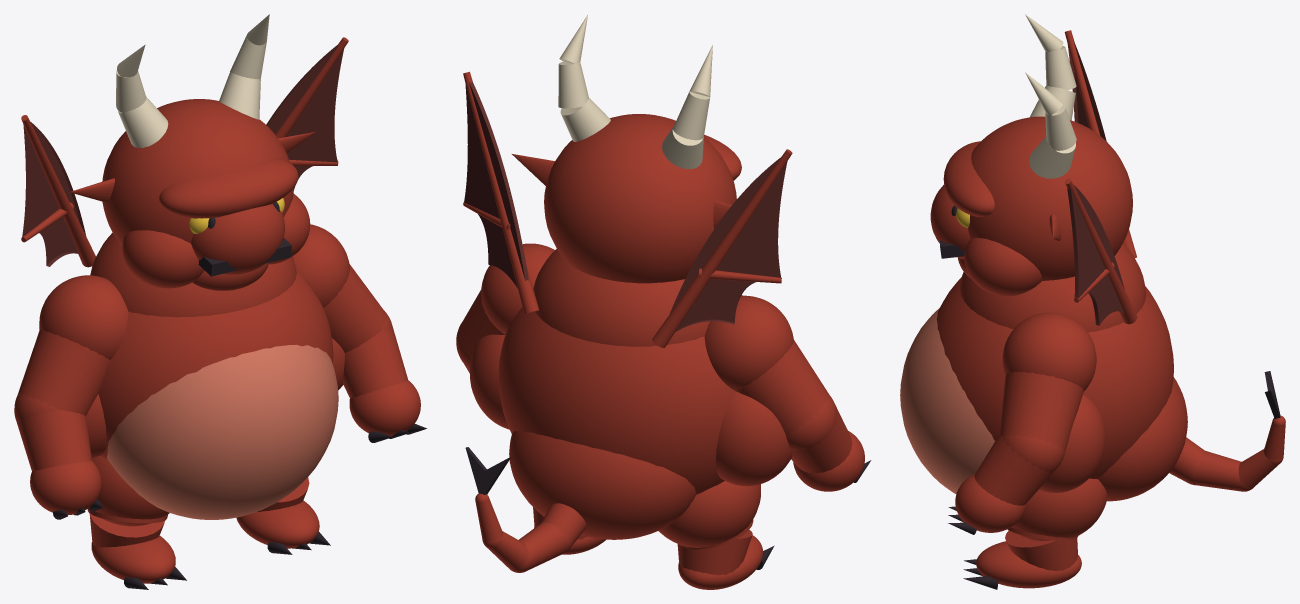
Rendered from demon_imp.obj.
3 renders of one model, left to right at view 1: azimuth 30°, elevation 25°; view 2: azimuth 150°, elevation 25°; view 3: azimuth 270°, elevation 25°, orthographic. The views are drawn at different scales.
Visible parts, largest first — view 1: gut, torso, skull, chest, brow, shoulder_R, upper_arm_R, snout, wing_membrane_L, wing_membrane_R, jowl_R, forearm_R (+22 smaller); view 2: torso, skull, rump, chest, wing_membrane_R, shoulder_R, love_handle_R, wing_membrane_L, thigh_R, upper_arm_R, wing_bone_R_0, shoulder_L (+22 smaller); view 3: torso, skull, gut, chest, shoulder_L, upper_arm_L, rump, thigh_L, wing_membrane_L, jowl_L, love_handle_L, forearm_L (+19 smaller).
Part boxes in pixels (x1,y1,x2,y2): gut: (107, 344, 338, 519); torso: (98, 271, 333, 458); skull: (102, 99, 293, 246); chest: (90, 232, 296, 317); brow: (159, 158, 298, 218); shoulder_R: (39, 275, 128, 359); upper_arm_R: (18, 330, 109, 415); snout: (191, 204, 284, 274); wing_membrane_L: (266, 45, 344, 190); wing_membrane_R: (22, 122, 85, 266); jowl_R: (122, 230, 204, 288); forearm_R: (15, 407, 91, 471); torso: (498, 295, 742, 494); skull: (544, 114, 736, 283); rump: (509, 431, 696, 539); chest: (533, 249, 709, 346); wing_membrane_R: (670, 157, 787, 331); shoulder_R: (704, 295, 793, 390); love_handle_R: (715, 391, 792, 486); wing_membrane_L: (464, 80, 528, 288); thigh_R: (658, 481, 760, 547); upper_arm_R: (736, 339, 829, 435); wing_bone_R_0: (652, 149, 792, 347); shoulder_L: (481, 243, 554, 334); torso: (936, 277, 1173, 478); skull: (968, 116, 1132, 280); gut: (900, 308, 994, 493); chest: (959, 243, 1146, 332); shoulder_L: (1002, 312, 1096, 391); upper_arm_L: (999, 371, 1084, 451); rump: (1098, 377, 1187, 501); thigh_L: (1011, 478, 1107, 540); wing_membrane_L: (1067, 185, 1124, 325); jowl_L: (964, 237, 1042, 296); love_handle_L: (1039, 395, 1105, 492); forearm_L: (974, 435, 1053, 505).
Size of the model in its own units: 1.43 by 1.9 by 1.31.
